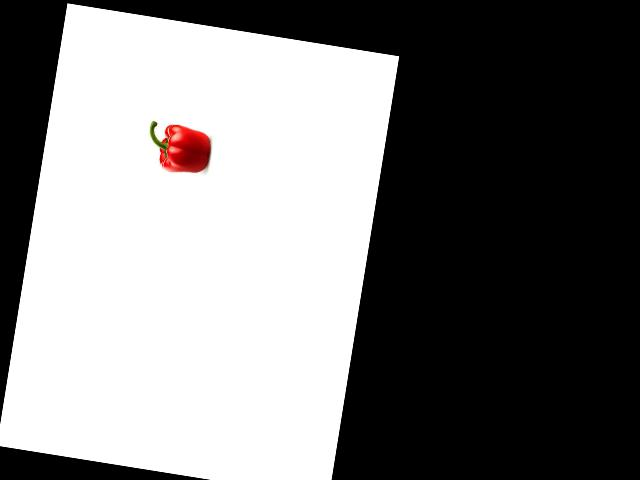bell_pepper: (143, 118, 214, 176)
